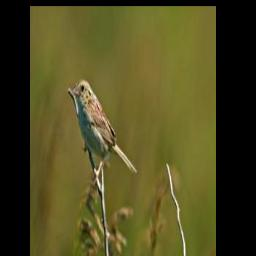Sparrow: (70, 77, 137, 188)
